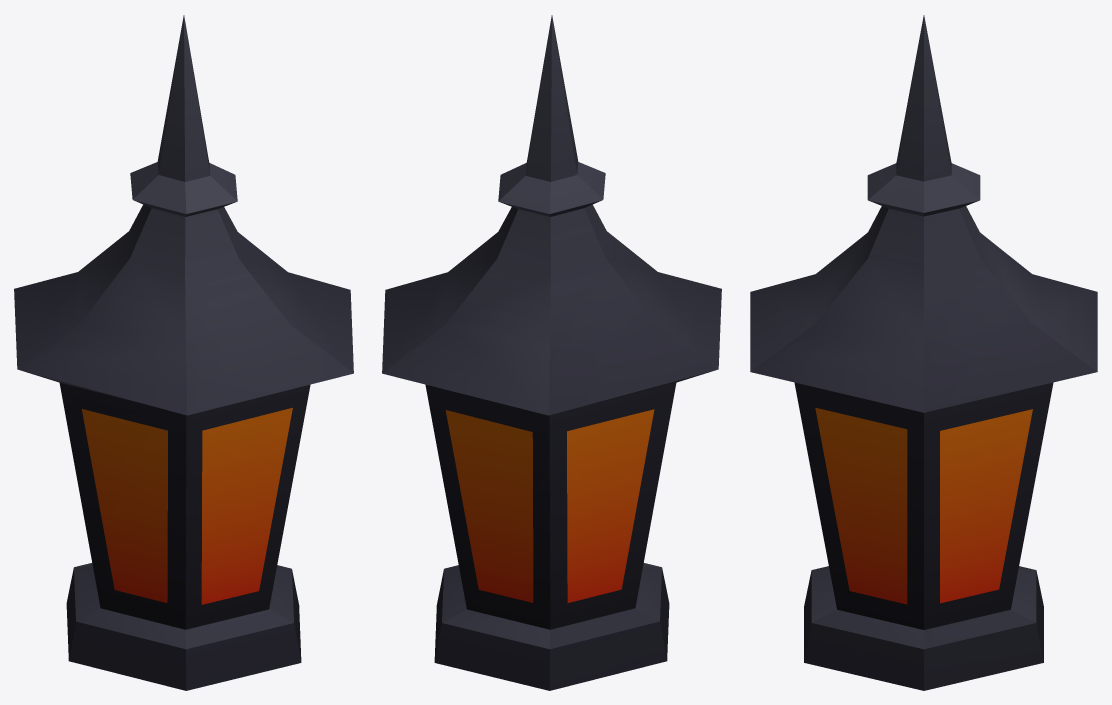
Rendered from lamp.001.glb.
3 views of the same model, side by side, from view 1: azimuth 30°, elevation 25°; view 2: azimuth 150°, elevation 25°; view 3: azimuth 270°, elevation 25° (orthographic).
Visible parts, largest first — view 1: lamp.001; view 2: lamp.001; view 3: lamp.001.
Part boxes in pixels (x1,y1,x2,y2): lamp.001: (14,15,353,690); lamp.001: (382,15,721,690); lamp.001: (750,15,1097,690).
Bounding box in the file's own units: 1.16 × 2.05 × 1.04.
1 material, 1 textured.
